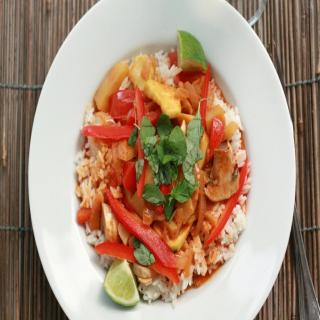Lemon: (104, 262, 142, 310), (178, 29, 208, 69)
